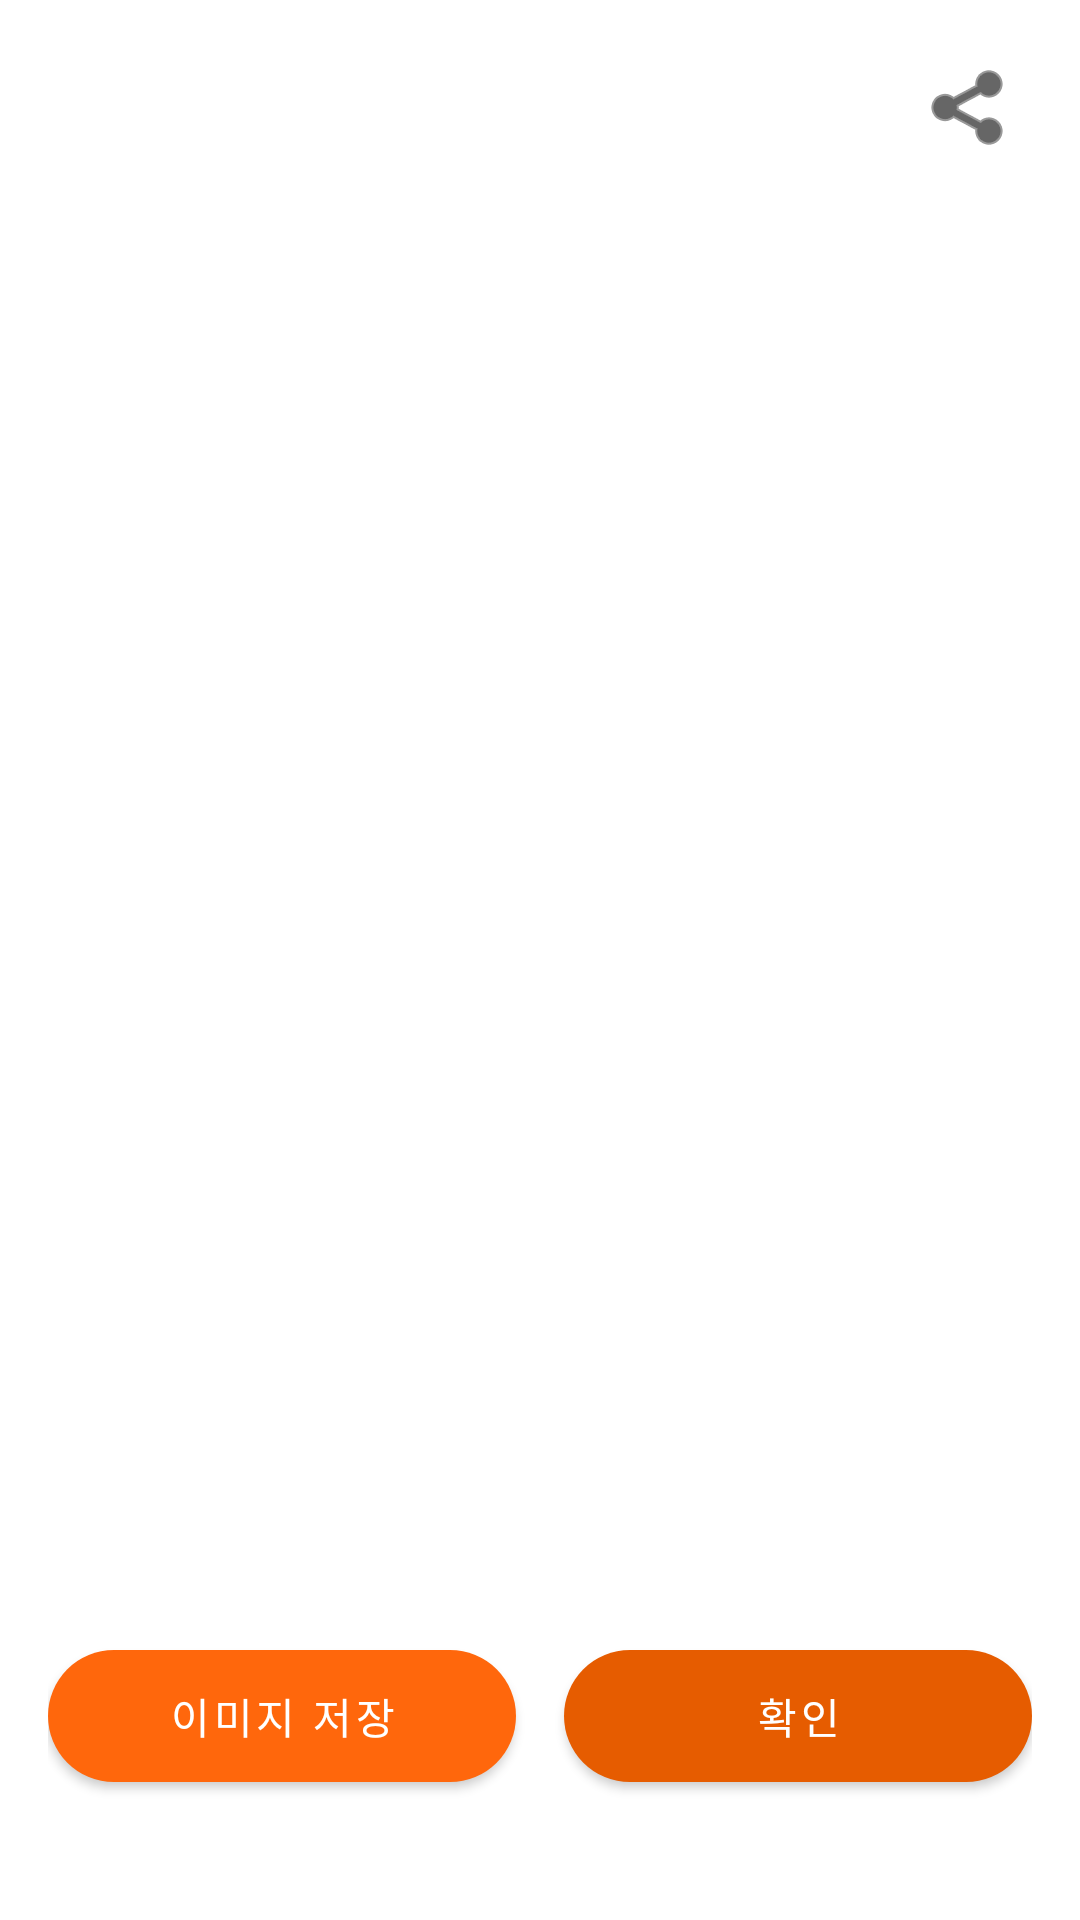

Icon bounding boxes for this 1080px×1920px phone screenshot, format box(x1, y1, x2, y2):
공유: box(931, 70, 1003, 145)
